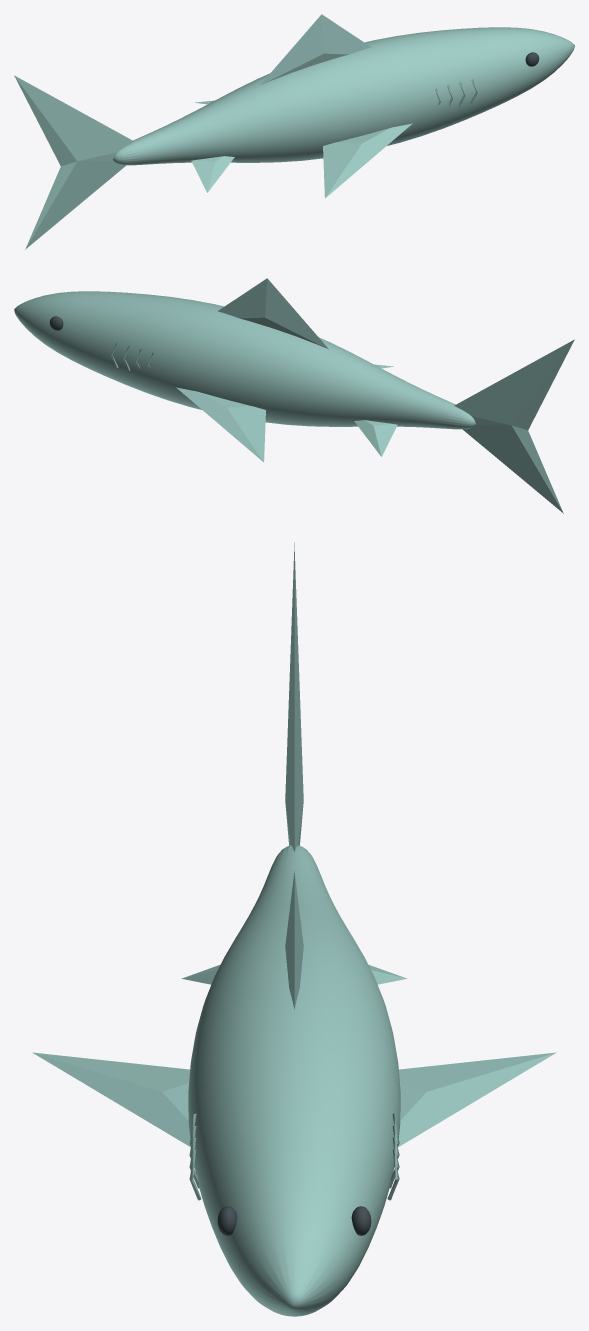
3 views of the same model, one above another, from view 1: azimuth 30°, elevation 25°; view 2: azimuth 150°, elevation 25°; view 3: azimuth 270°, elevation 25° (orthographic). The views are drawn at different scales.
Parts seen in each view (by area): view 1: Body, Tail, Dorsal, Pectoral, Pelvic; view 2: Body, Tail, Dorsal, Pectoral.001, Pelvic.001; view 3: Body, Pectoral.001, Pectoral, Tail, Dorsal.
Part boxes in pixels (x1=…): Body: x1=113, y1=27, x2=574, y2=165; Tail: x1=14, y1=75, x2=134, y2=249; Dorsal: x1=260, y1=14, x2=370, y2=85; Pectoral: x1=323, y1=123, x2=412, y2=198; Pelvic: x1=191, y1=156, x2=234, y2=192; Body: x1=14, y1=291, x2=475, y2=429; Tail: x1=454, y1=339, x2=574, y2=513; Dorsal: x1=218, y1=278, x2=328, y2=349; Pectoral.001: x1=176, y1=387, x2=265, y2=462; Pelvic.001: x1=354, y1=420, x2=397, y2=456; Body: x1=188, y1=845, x2=400, y2=1316; Pectoral.001: x1=398, y1=1052, x2=556, y2=1147; Pectoral: x1=32, y1=1052, x2=190, y2=1147; Tail: x1=285, y1=542, x2=303, y2=852; Dorsal: x1=285, y1=871, x2=303, y2=1009.
Size of the model in its own units: 252 by 76 by 102.
